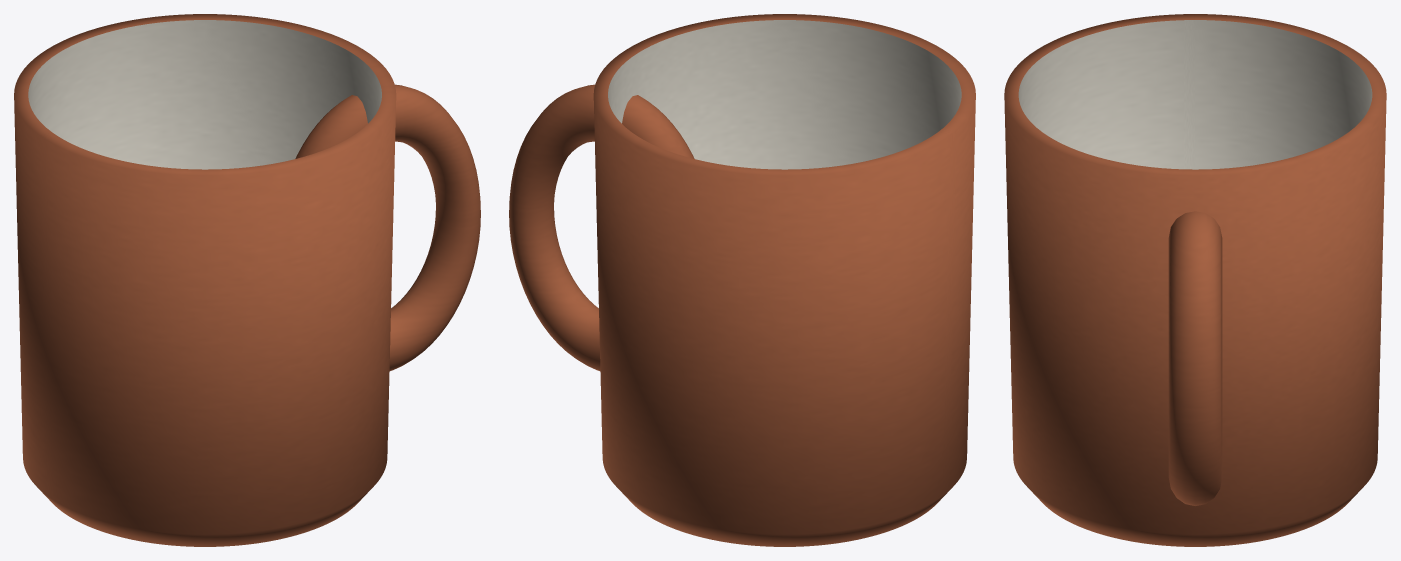
The model's file is intact.glb.
The picture shows the model from 3 angles, left to right: view 1: azimuth 30°, elevation 25°; view 2: azimuth 150°, elevation 25°; view 3: azimuth 270°, elevation 25°; orthographic projection.
Parts seen in each view (by area): view 1: mug-component-000-terracotta, mug-component-000-ivory, mug-component-001-terracotta; view 2: mug-component-000-terracotta, mug-component-000-ivory, mug-component-001-terracotta; view 3: mug-component-000-terracotta, mug-component-000-ivory, mug-component-001-terracotta.
Part boxes in pixels (bbox=[...]): mug-component-000-terracotta: bbox=[14, 14, 396, 546]; mug-component-000-ivory: bbox=[28, 20, 381, 169]; mug-component-001-terracotta: bbox=[295, 84, 480, 370]; mug-component-000-terracotta: bbox=[593, 14, 975, 546]; mug-component-000-ivory: bbox=[608, 20, 961, 169]; mug-component-001-terracotta: bbox=[509, 84, 694, 370]; mug-component-000-terracotta: bbox=[1004, 14, 1386, 546]; mug-component-000-ivory: bbox=[1018, 20, 1372, 169]; mug-component-001-terracotta: bbox=[1168, 211, 1222, 505].
Size of the model in its own units: 0.12 by 0.1004 by 0.0908.
2 materials, 2 textured.
